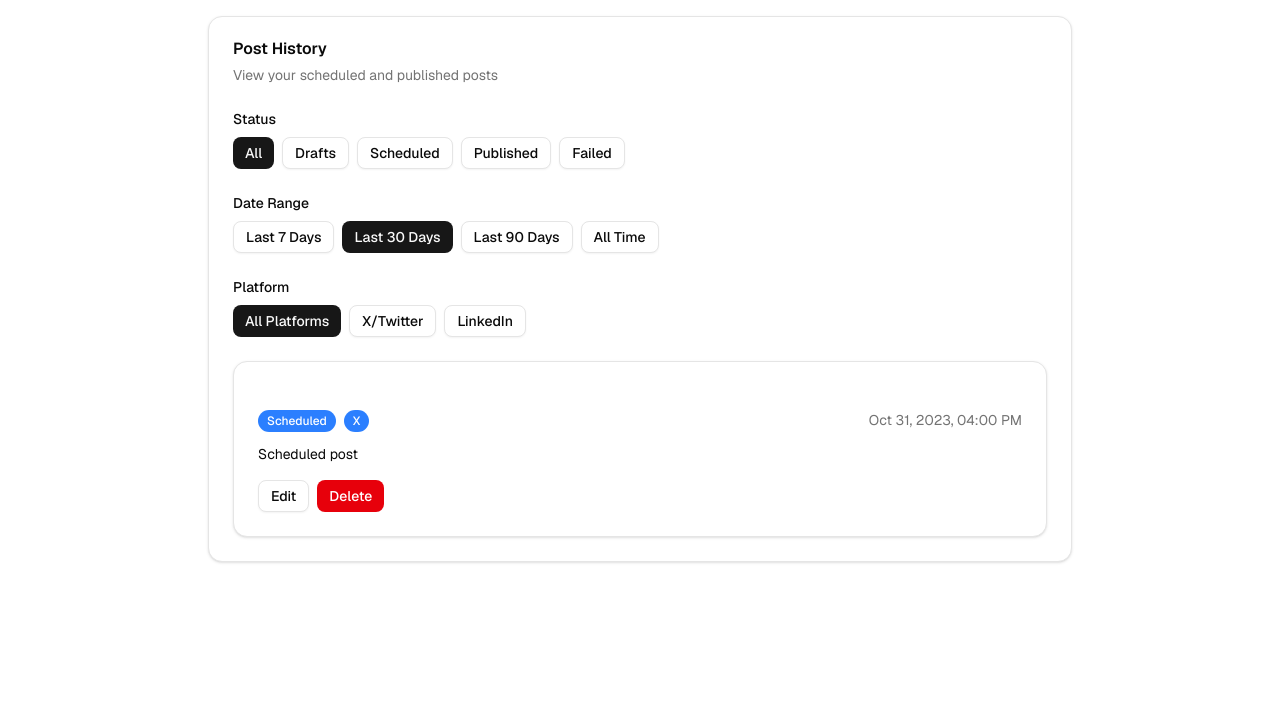
Test: PostHistory Component › Delete Confirmation Dialog › should close dialog when Cancel button is clicked
The width and height of the screenshot is (1280, 720).
Click the button "Delete" at (351, 496), box [317, 480, 384, 512]
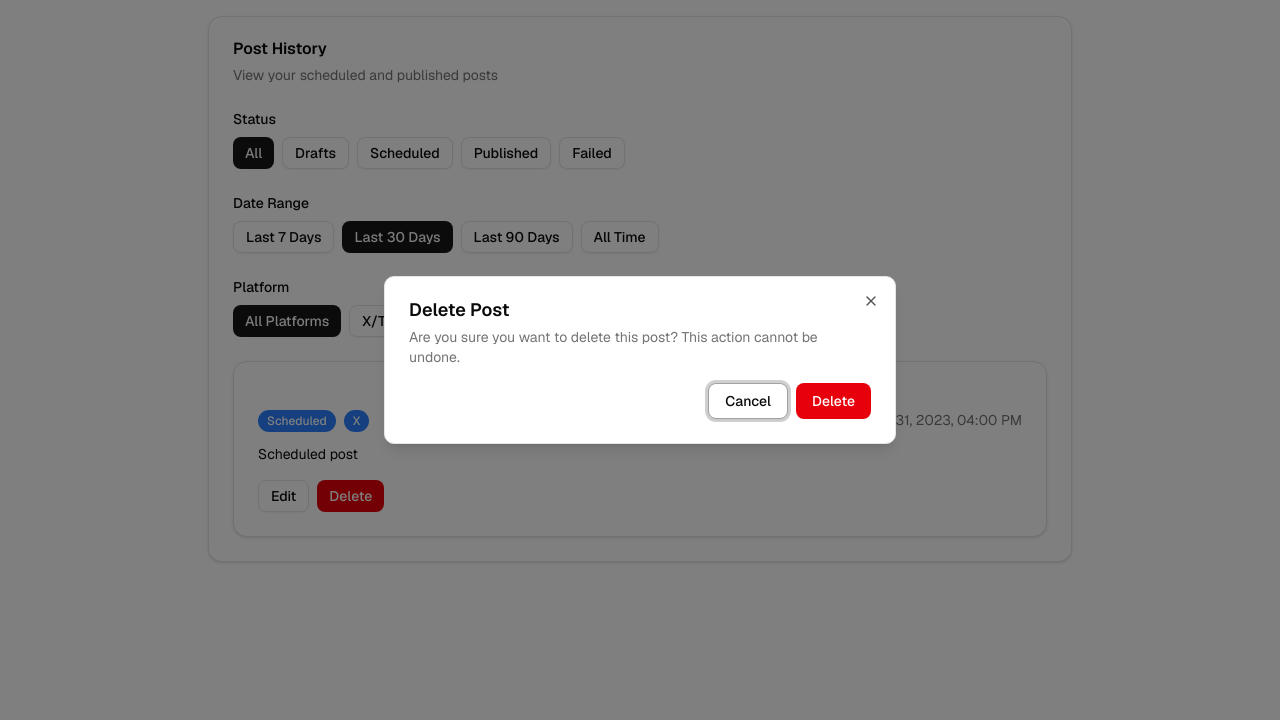
Check: the heading "Delete Post" is shown, box [409, 298, 509, 321]
Click the button "Cancel" at (748, 401), box [708, 383, 788, 419]
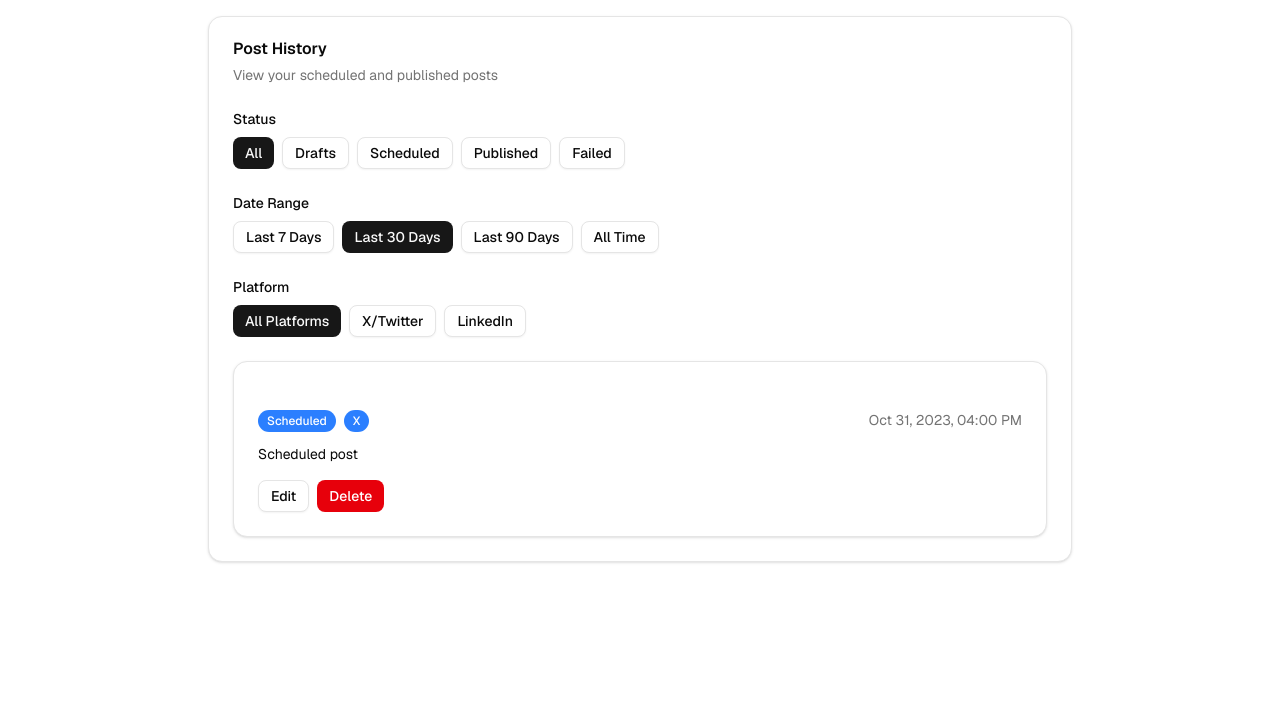
Check: the heading "Delete Post" is gone
